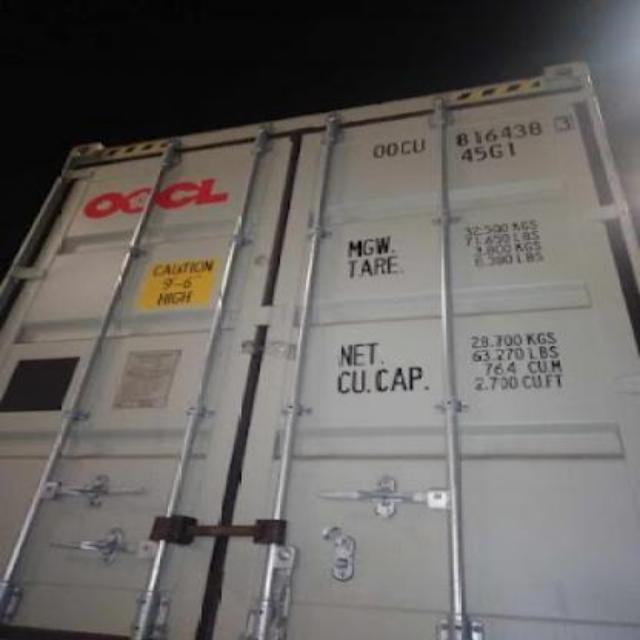1: (474, 129, 482, 145)
3: (556, 114, 570, 130), (514, 123, 526, 139)
4: (502, 125, 514, 138)
6: (484, 126, 498, 142)
8: (528, 122, 544, 134), (456, 132, 469, 146)
C: (400, 140, 412, 154)
O: (388, 142, 398, 158), (372, 146, 384, 158)
U: (410, 136, 426, 154)
